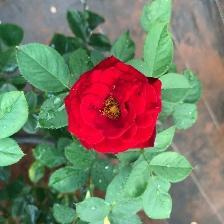rose: (64, 56, 164, 157)
